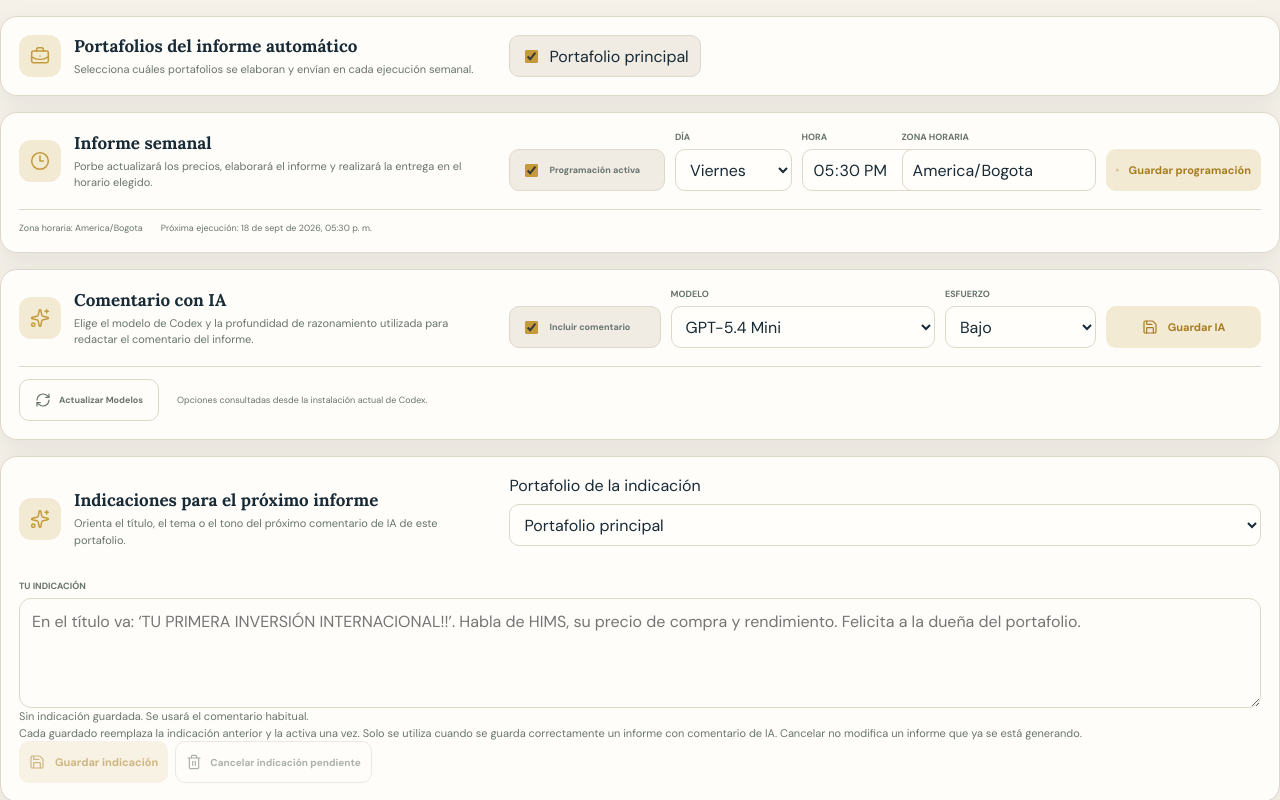
Test case: SettingsPage › conserva los modelos y permite reintentar si falla la actualización: unavailable
This screenshot has width=1280, height=800.
(page scrolled)
Click the button "Actualizar Modelos": click(89, 400) [19,379,159,421]
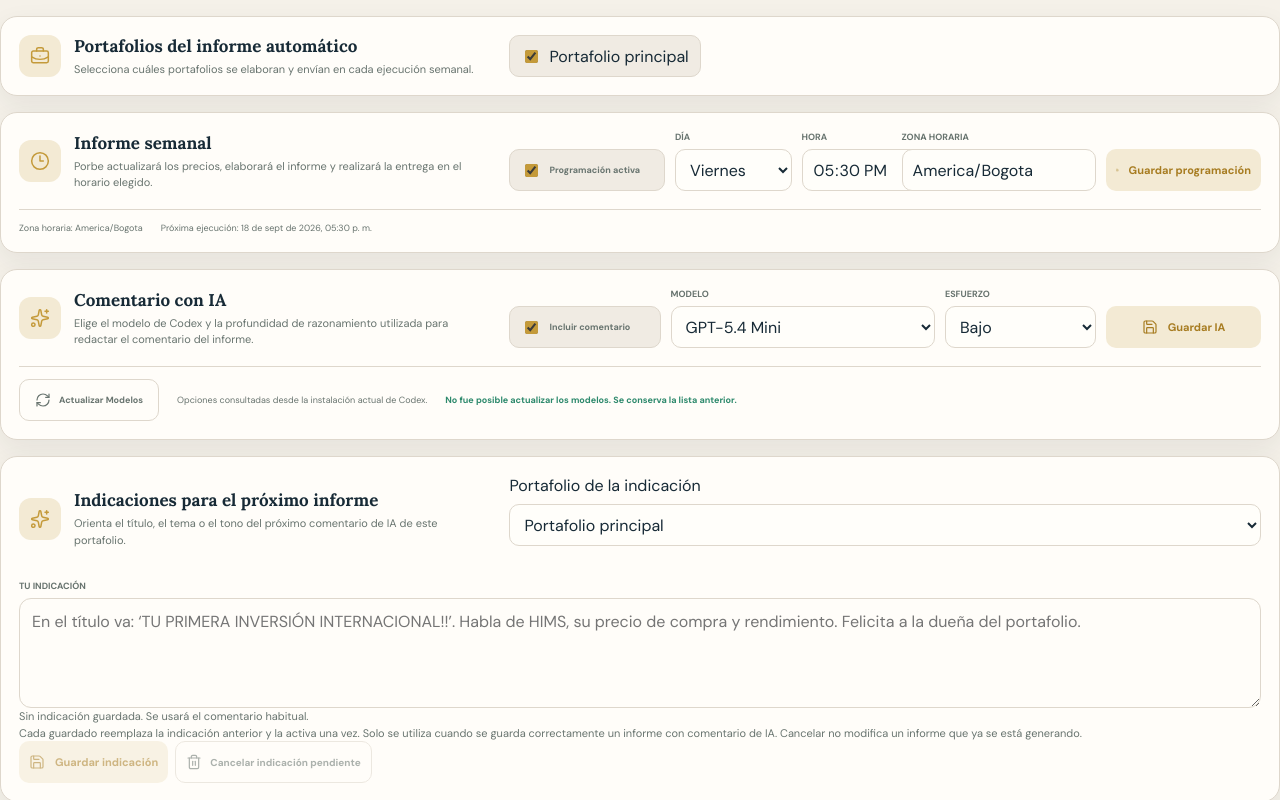
Expected: the dropdown labelled "Modelo" shows "GPT-5.4 Mini", [670,306,935,348]
Now the text "No fue posible actualizar los modelos. Se conserva la lista anterior." is shown, box [445,394,737,406]
